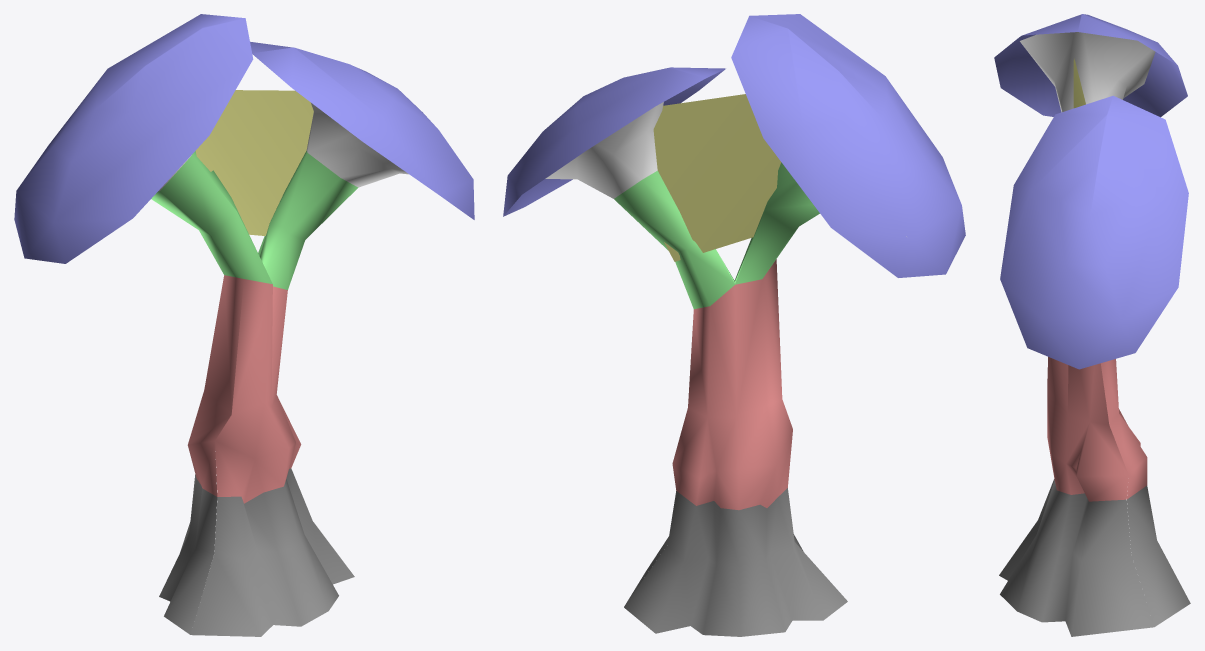
Rendered from mushroom3.gltf.
The picture shows the model from 3 angles, left to right: view 1: azimuth 30°, elevation 25°; view 2: azimuth 150°, elevation 25°; view 3: azimuth 270°, elevation 25°; orthographic projection. The views are drawn at different scales.
Visible parts, largest first — view 1: mushroom3; view 2: mushroom3; view 3: mushroom3.
Boxes of the visible parts, box(x1,y1,x2,y2) form: mushroom3: box(14, 14, 474, 636); mushroom3: box(503, 14, 965, 636); mushroom3: box(994, 14, 1190, 636).
Bounding box in the file's own units: 4.35 × 5.6 × 1.8.
